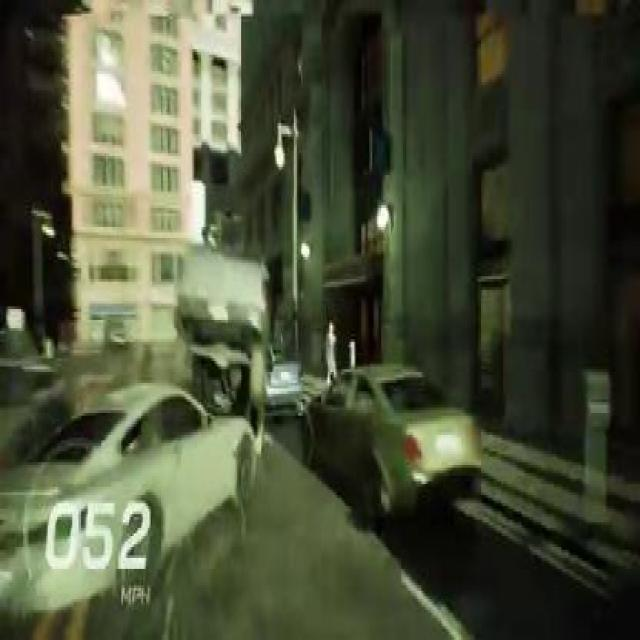accident: (0, 233, 274, 629)
